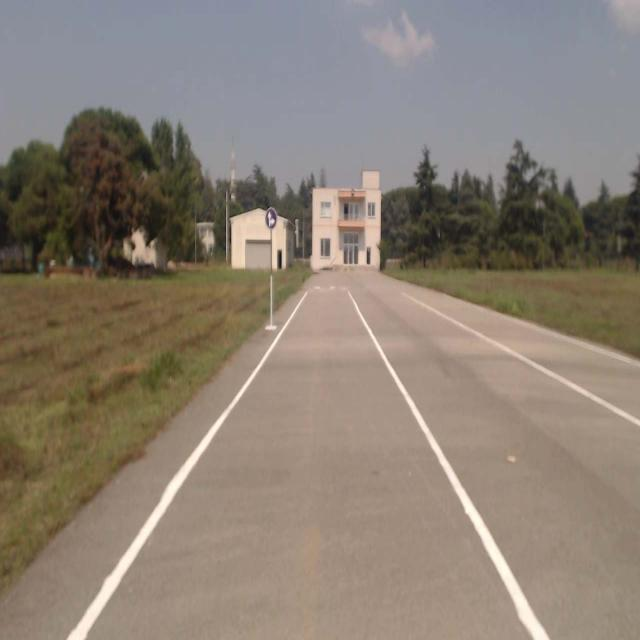ilerisag: (266, 208, 276, 228)
